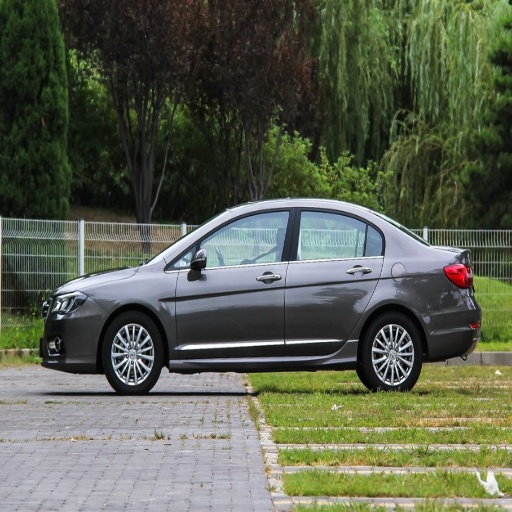back_left_door: (286, 206, 385, 353)
front_left_door: (176, 206, 293, 353)
